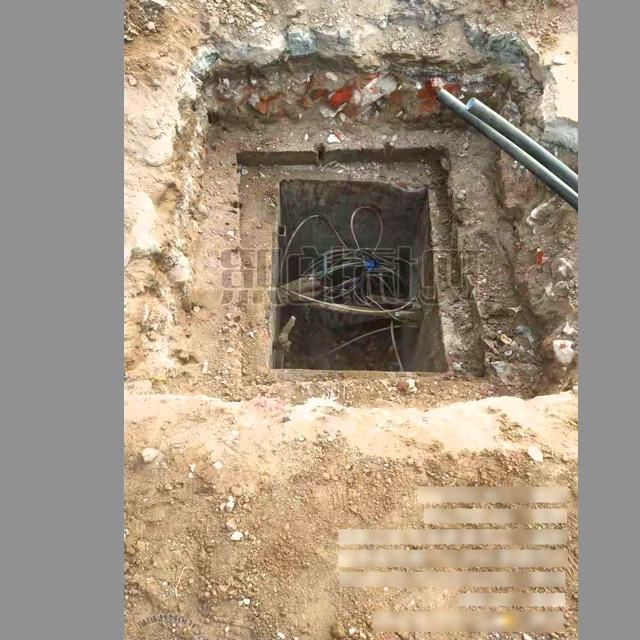lose: (268, 155, 452, 374)
